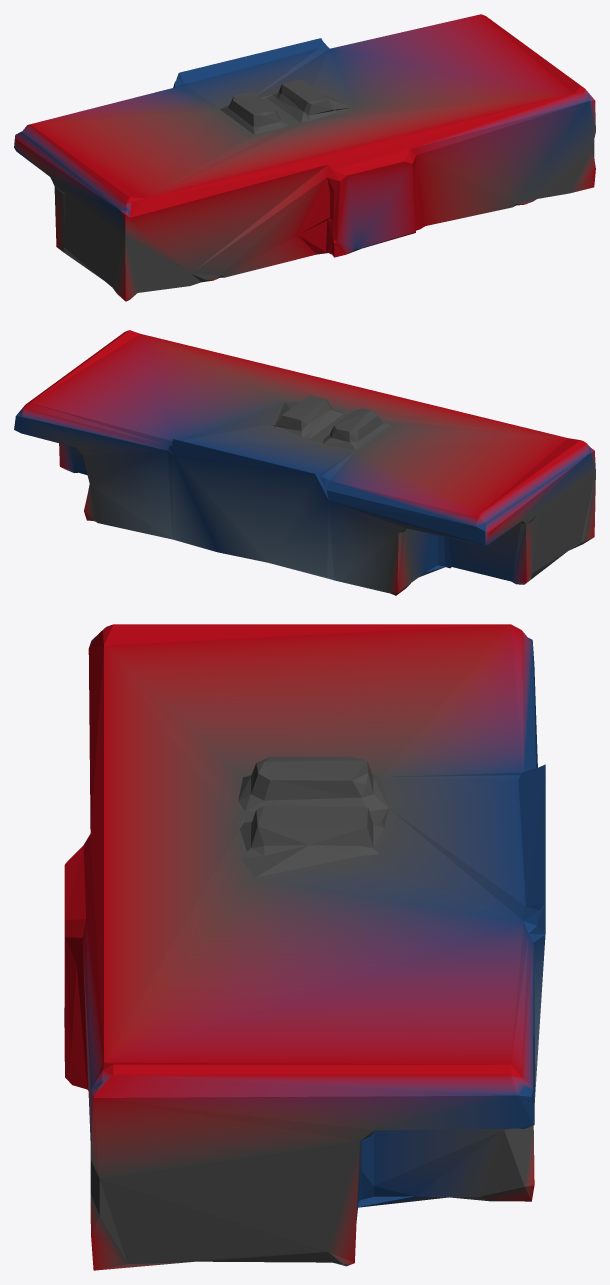
File: Convenience Stores(1).glb
3 renders of one model, top to bottom at view 1: azimuth 30°, elevation 25°; view 2: azimuth 150°, elevation 25°; view 3: azimuth 270°, elevation 25°, orthographic. The views are drawn at different scales.
Visible parts, largest first — view 1: Root; view 2: Root; view 3: Root.
Part boxes in pixels (x1,y1,x2,y2): Root: [14, 14, 595, 301]; Root: [14, 330, 595, 595]; Root: [64, 624, 545, 1270].
Bounding box in the file's own units: 18.53 × 4.28 × 8.17.
